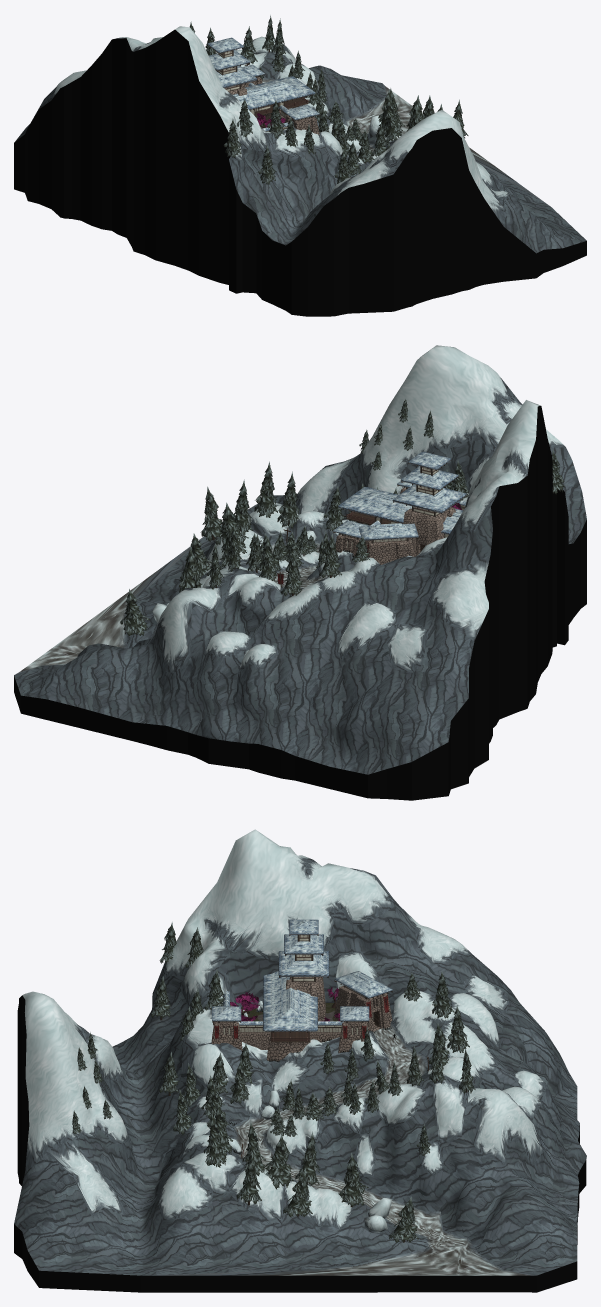
File: mountain_temple.glb
3 renders of one model, top to bottom at view 1: azimuth 30°, elevation 25°; view 2: azimuth 150°, elevation 25°; view 3: azimuth 270°, elevation 25°, orthographic. The views are drawn at different scales.
Parts seen in each view (by area): view 1: Mountain, TemplePiece01, TemplePiece02, TemplePiece06, polySurface43; view 2: Mountain, TemplePiece02, TemplePiece01, TemplePiece09, TemplePiece05, polySurface76, polySurface42, polySurface46, polySurface40, polySurface44, polySurface41; view 3: Mountain, TemplePiece02, TemplePiece01, TemplePiece09, TemplePiece06, TemplePiece05, polySurface44, polySurface52, polySurface76, polySurface45, TemplePiece04, polySurface42 (+2 smaller).
Boxes of the visible parts, bbox=[...] form: Mountain: bbox=[14, 26, 586, 316]; TemplePiece01: bbox=[232, 76, 315, 116]; TemplePiece02: bbox=[207, 37, 257, 95]; TemplePiece06: bbox=[283, 104, 319, 134]; polySurface43: bbox=[382, 96, 402, 143]; Mountain: bbox=[14, 345, 586, 800]; TemplePiece02: bbox=[392, 451, 466, 556]; TemplePiece01: bbox=[338, 487, 462, 537]; TemplePiece09: bbox=[358, 523, 418, 564]; TemplePiece05: bbox=[333, 520, 369, 558]; polySurface76: bbox=[120, 589, 149, 635]; polySurface42: bbox=[254, 461, 277, 517]; polySurface46: bbox=[200, 486, 223, 541]; polySurface40: bbox=[277, 471, 299, 528]; polySurface44: bbox=[214, 502, 248, 554]; polySurface41: bbox=[232, 479, 252, 535]; Mountain: bbox=[14, 829, 586, 1292]; TemplePiece02: bbox=[278, 919, 329, 1021]; TemplePiece01: bbox=[262, 971, 317, 1042]; TemplePiece09: bbox=[333, 971, 392, 1031]; TemplePiece06: bbox=[211, 1006, 242, 1050]; TemplePiece05: bbox=[338, 1006, 369, 1053]; polySurface44: bbox=[265, 1134, 293, 1189]; polySurface52: bbox=[339, 1152, 368, 1207]; polySurface76: bbox=[388, 1196, 418, 1242]; polySurface45: bbox=[283, 1171, 312, 1217]; TemplePiece04: bbox=[237, 1021, 270, 1049]; polySurface42: bbox=[204, 1112, 226, 1167].
Size of what is drawn, in the model's own units: 215 by 131 by 246.
13 materials, 11 textured.
